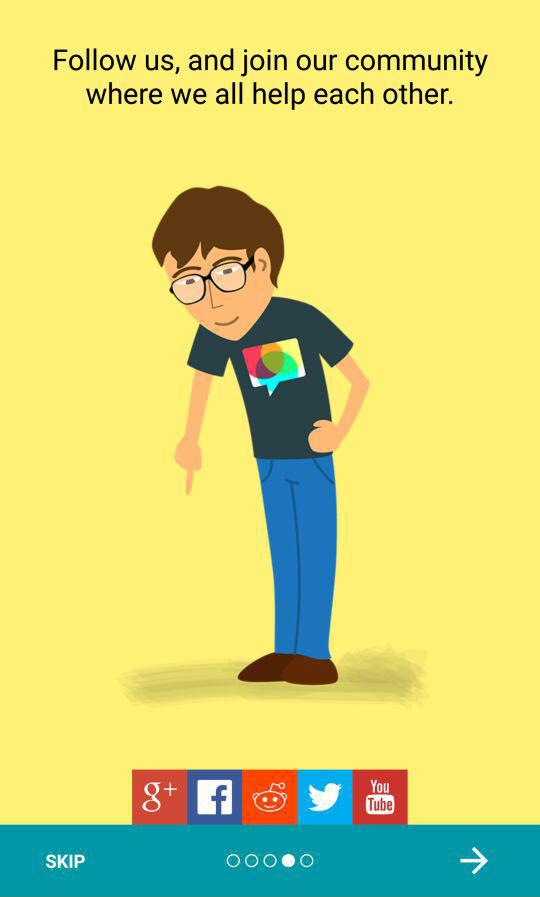Icon: (133, 770, 188, 824), (188, 770, 242, 824), (298, 770, 352, 824), (459, 846, 489, 875)
Image: (118, 186, 427, 709), (242, 770, 298, 824), (352, 770, 408, 824)
PageIndicator: (226, 853, 314, 868)
Text: (54, 48, 488, 111), (46, 854, 86, 869)
